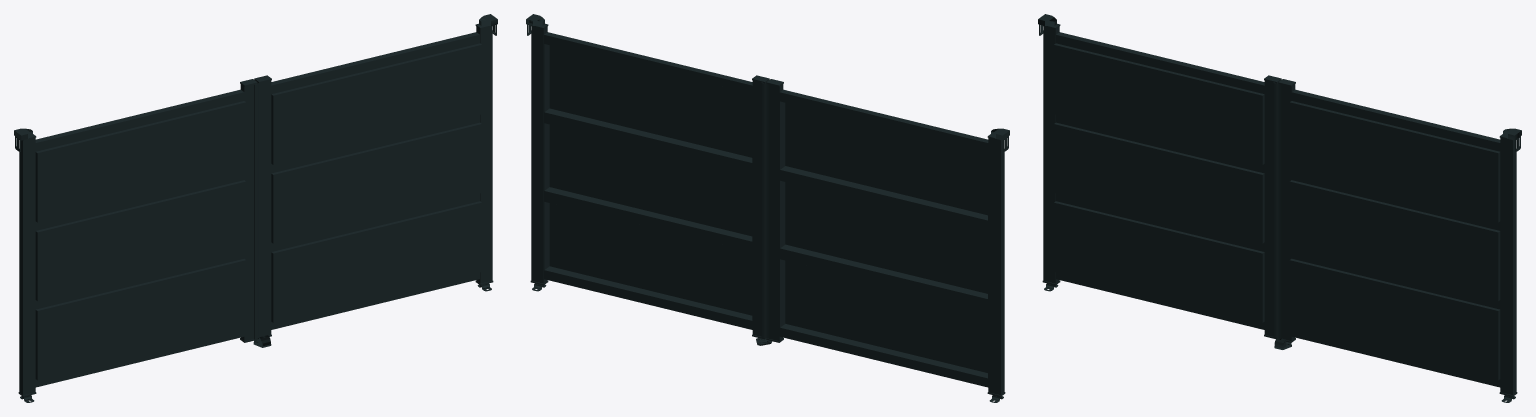
3 renders of one model, left to right at view 1: azimuth 30°, elevation 25°; view 2: azimuth 150°, elevation 25°; view 3: azimuth 330°, elevation 25°, orthographic.
Visible parts, largest first — view 1: folha2, folha1, priximbattable_net_portail_aluminium_battant_sur_mesure_8651; view 2: folha1, folha2, priximbattable_net_portail_aluminium_battant_sur_mesure_8651; view 3: folha2, folha1, priximbattable_net_portail_aluminium_battant_sur_mesure_8651.
Part boxes in pixels (box(x1,y1,x2,y2)): folha2: box(254, 23, 493, 339); folha1: box(18, 79, 257, 396); priximbattable_net_portail_aluminium_battant_sur_mesure_8651: box(14, 14, 497, 402); folha1: box(761, 79, 1005, 396); folha2: box(530, 23, 769, 339); priximbattable_net_portail_aluminium_battant_sur_mesure_8651: box(526, 14, 1009, 402); folha2: box(1273, 79, 1517, 396); folha1: box(1042, 23, 1281, 338); priximbattable_net_portail_aluminium_battant_sur_mesure_8651: box(1038, 14, 1521, 402).
Bounding box in the file's own units: 304 × 164 × 11.73.
Materials: 1 (1 with a texture image).
